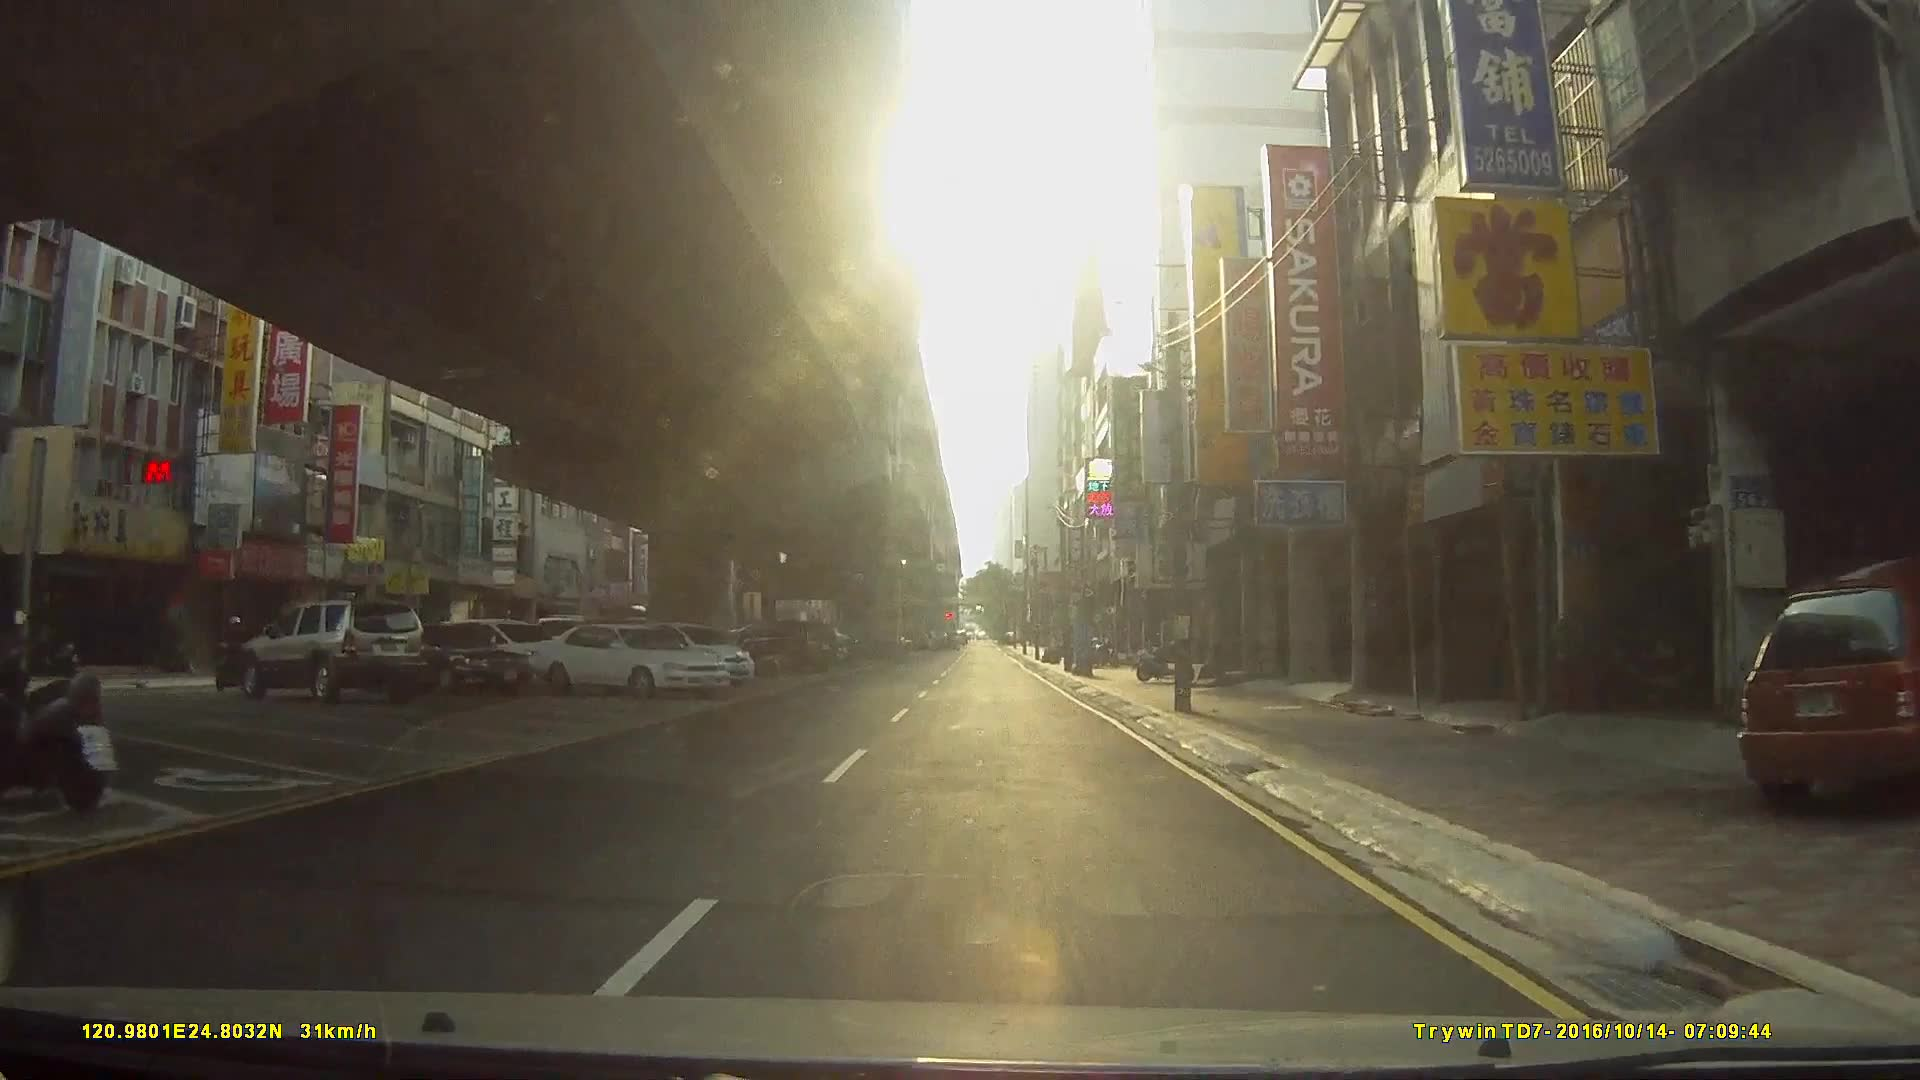rider: (214, 615, 260, 691)
vehicle: (1740, 551, 1920, 811), (237, 599, 428, 704), (331, 620, 532, 697), (527, 621, 734, 694)
